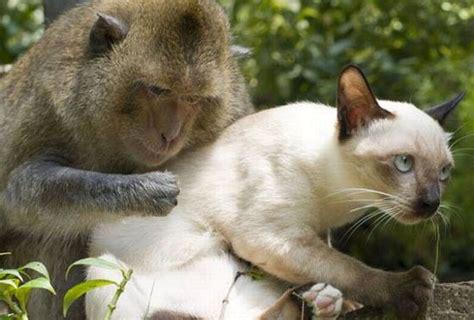monkey: (85, 65, 464, 320), (1, 1, 252, 320)
